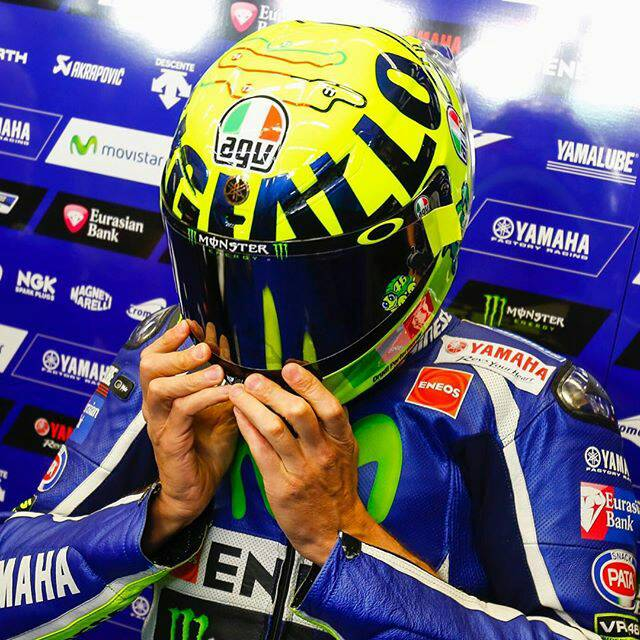helmet: (147, 13, 517, 438)
